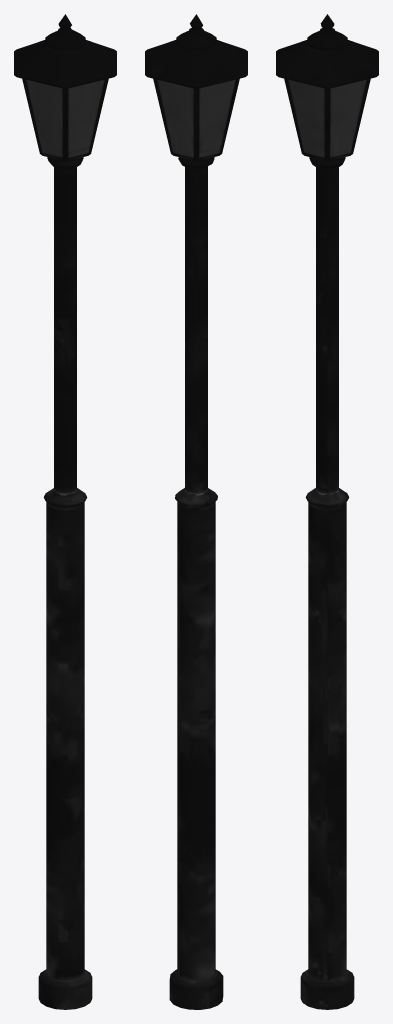
File: prop_lamp.glb
3 renders of one model, left to right at view 1: azimuth 90°, elevation 25°; view 2: azimuth 210°, elevation 25°; view 3: azimuth 270°, elevation 25°, orthographic.
Parts seen in each view (by area): view 1: Lantern_Lantern_0; view 2: Lantern_Lantern_0; view 3: Lantern_Lantern_0.
Part boxes in pixels (left/top/right/bottom): Lantern_Lantern_0: left=14, top=14, right=116, bottom=1009; Lantern_Lantern_0: left=145, top=14, right=247, bottom=1009; Lantern_Lantern_0: left=276, top=14, right=378, bottom=1009.
Size of what is drawn, in the model's own units: 0.405 by 3.8 by 0.36.
1 material, 1 textured.
